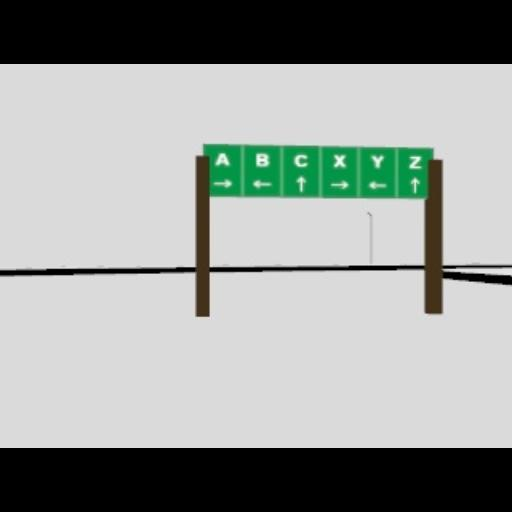A: (214, 152, 230, 164)
B: (255, 152, 269, 166)
C: (293, 154, 307, 166)
Left: (368, 179, 388, 189), (252, 179, 272, 187)
Right: (212, 177, 232, 187), (330, 179, 348, 189)
Straight: (294, 174, 306, 192), (409, 176, 419, 192)
X: (332, 154, 346, 166)
Y: (370, 154, 384, 168)
Z: (408, 156, 422, 168)
